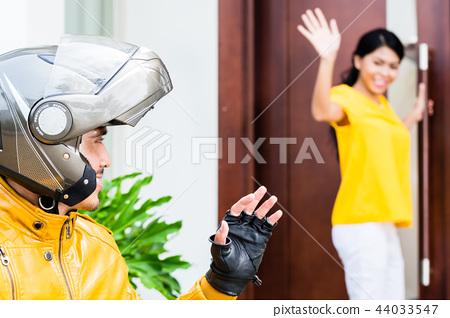helmet: (1, 47, 151, 195)
